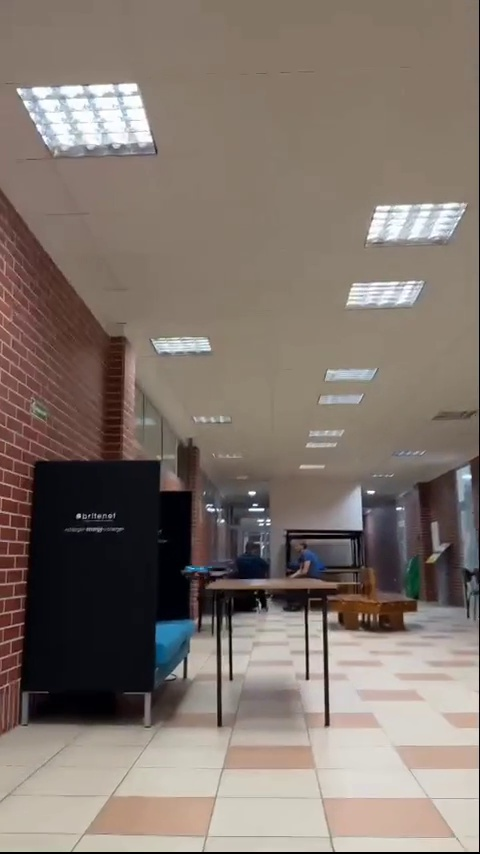drone: (182, 564, 210, 581)
no vest: (236, 539, 273, 578), (290, 540, 320, 578)
